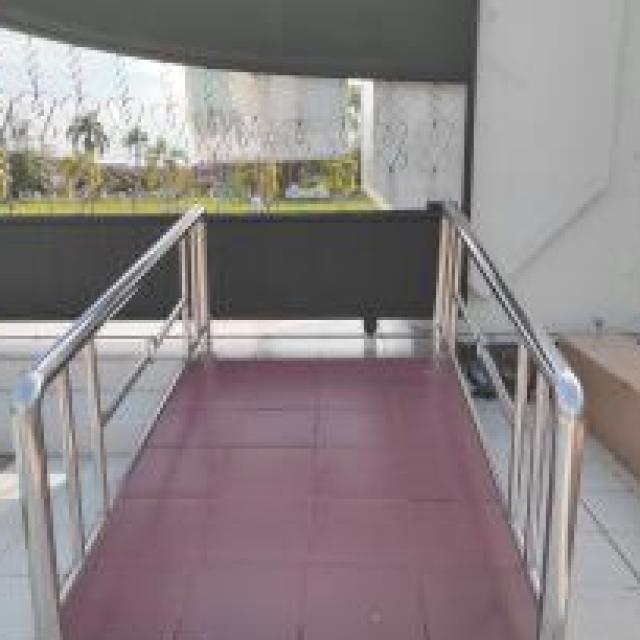upstair: (92, 354, 518, 633)
